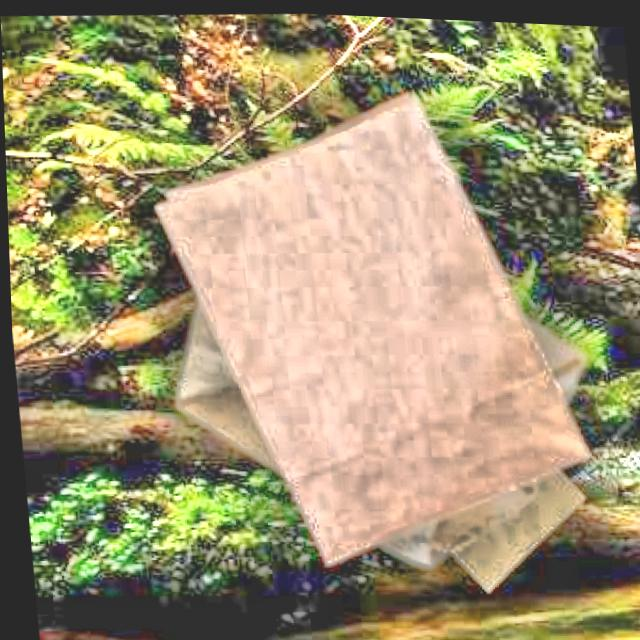Paper-bag: (139, 63, 602, 600)
